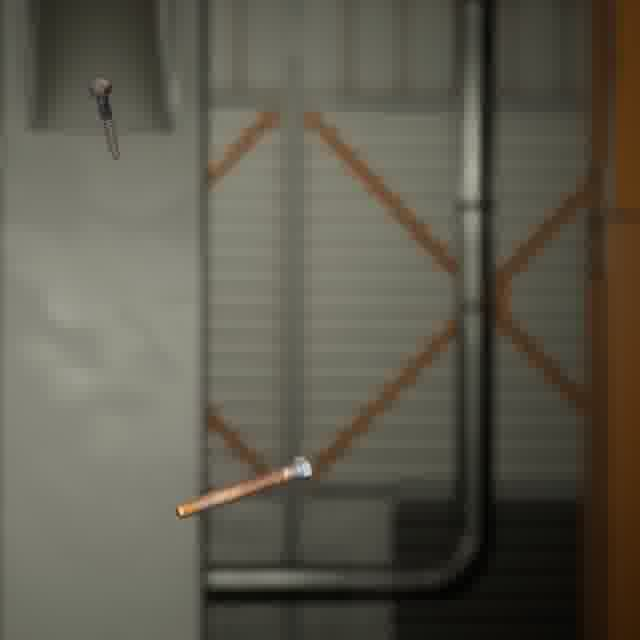bolt: (170, 451, 316, 523), (83, 74, 123, 165)
